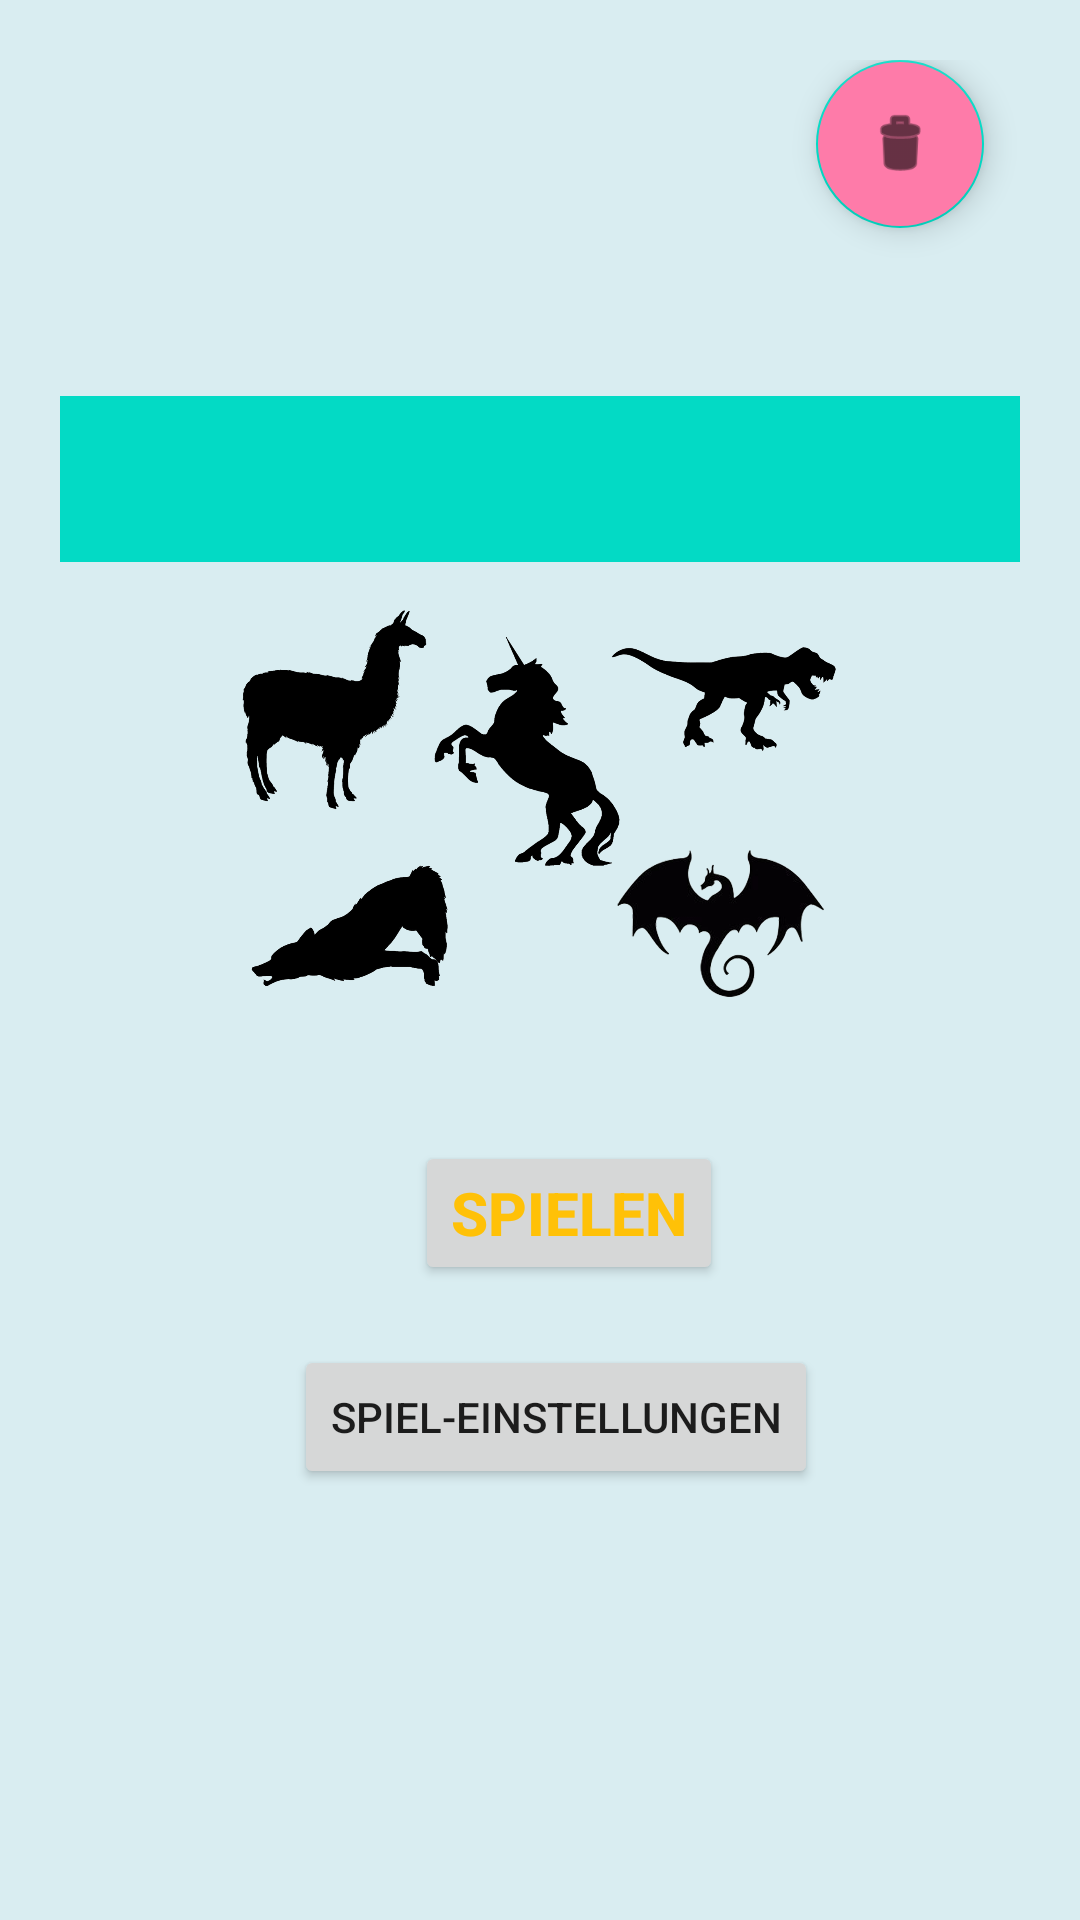

Screen size 1080*1920. Icon name, then its center in pixels as (x=x, y=y):
delete: (x=900, y=144)
